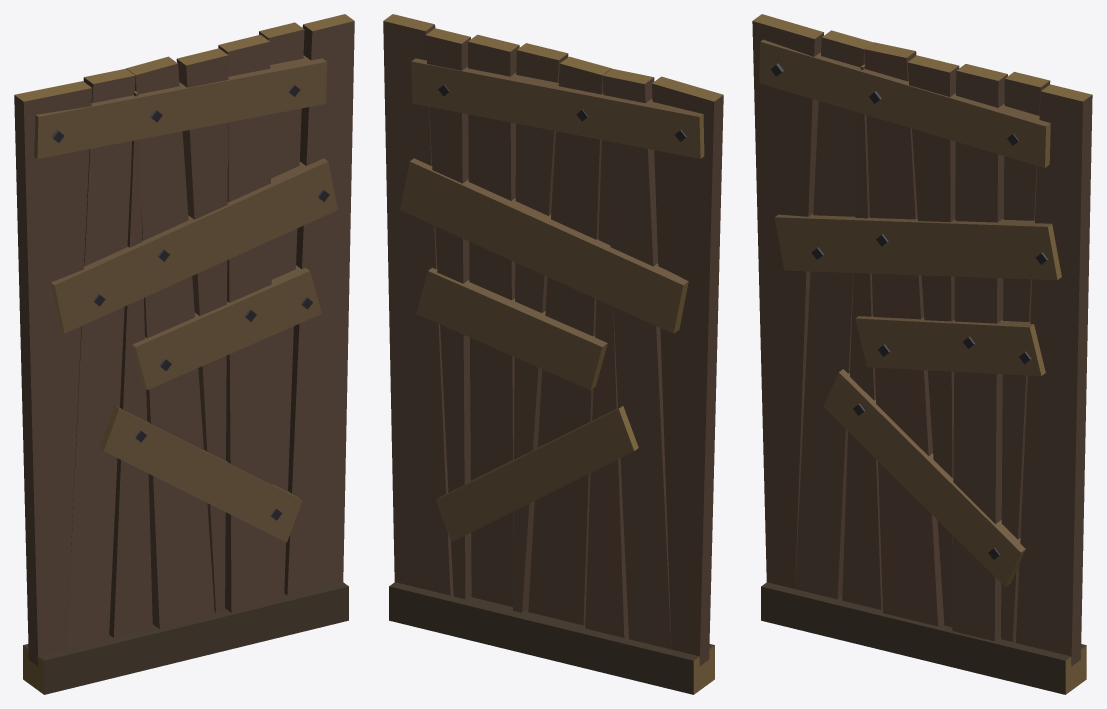
The model's file is Wall_3B_2mx4m.fbx.
3 renders of one model, left to right at view 1: azimuth 30°, elevation 25°; view 2: azimuth 150°, elevation 25°; view 3: azimuth 330°, elevation 25°, orthographic.
Visible parts, largest first — view 1: polySurface3041; view 2: polySurface3041; view 3: polySurface3041.
Part boxes in pixels (box(x1,y1,x2,y2)): polySurface3041: box(14, 14, 354, 694); polySurface3041: box(383, 14, 723, 694); polySurface3041: box(752, 14, 1092, 694).
Bounding box in the file's own units: 217 × 372 × 24.19.
